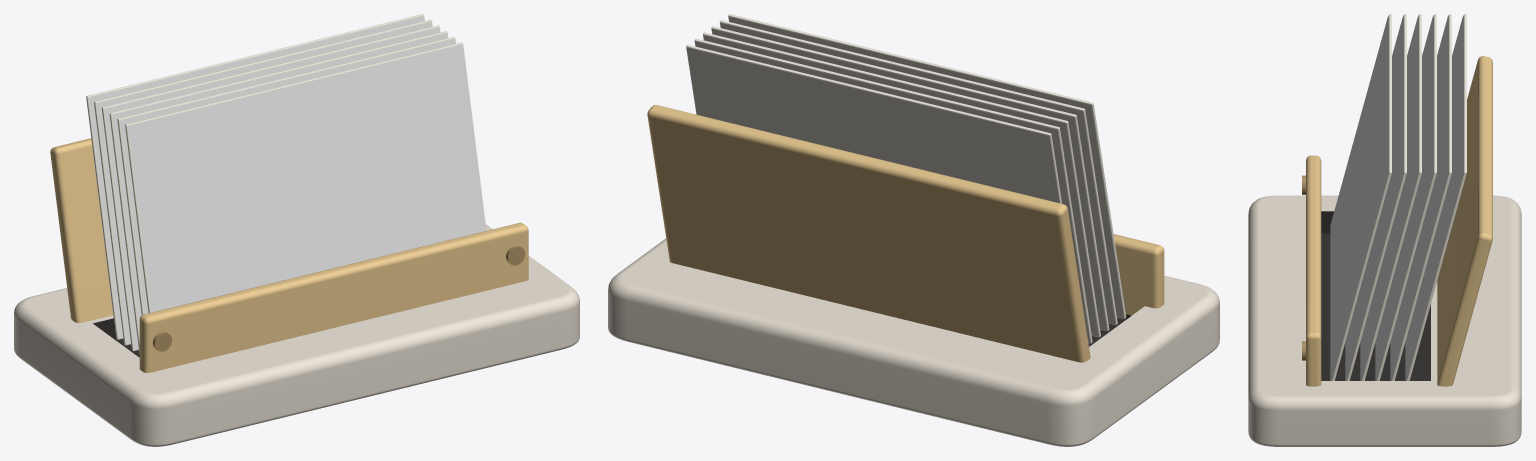
Rendered from cardholder.glb.
The picture shows the model from 3 angles, left to right: view 1: azimuth 30°, elevation 25°; view 2: azimuth 150°, elevation 25°; view 3: azimuth 270°, elevation 25°; orthographic projection. The views are drawn at different scales.
Parts seen in each view (by area): view 1: holder, face5, face2, face3, face4, face1, face0, Cube.006, Cube.005, Cube.004, Cube.003, Cube.002 (+1 smaller); view 2: holder, Cube.005, Cube.001, Cube.002, Cube.003, Cube.006, Cube.004; view 3: holder, face5, face2, face0, face3, face1, face4, Cube.005, Cube.001, Cube.002, Cube.003, Cube.004 (+1 smaller).
Part boxes in pixels (x1=…): holder: x1=14, y1=138, x2=579, y2=446; face5: x1=128, y1=44, x2=485, y2=312; face2: x1=104, y1=27, x2=439, y2=349; face3: x1=96, y1=21, x2=432, y2=344; face4: x1=89, y1=16, x2=424, y2=338; face1: x1=112, y1=33, x2=447, y2=332; face0: x1=120, y1=38, x2=455, y2=314; Cube.006: x1=125, y1=42, x2=486, y2=313; Cube.005: x1=86, y1=14, x2=424, y2=339; Cube.004: x1=94, y1=19, x2=432, y2=345; Cube.003: x1=101, y1=25, x2=440, y2=351; Cube.002: x1=109, y1=31, x2=448, y2=353; holder: x1=608, y1=105, x2=1219, y2=446; Cube.005: x1=686, y1=44, x2=1061, y2=203; Cube.001: x1=719, y1=20, x2=1117, y2=325; Cube.002: x1=711, y1=26, x2=1109, y2=331; Cube.003: x1=703, y1=32, x2=1100, y2=337; Cube.006: x1=728, y1=14, x2=1126, y2=318; Cube.004: x1=694, y1=38, x2=1092, y2=343; holder: x1=1248, y1=56, x2=1521, y2=446; face5: x1=1330, y1=16, x2=1388, y2=380; face2: x1=1375, y1=15, x2=1433, y2=380; face0: x1=1345, y1=15, x2=1403, y2=380; face3: x1=1390, y1=15, x2=1448, y2=380; face1: x1=1360, y1=15, x2=1418, y2=380; face4: x1=1405, y1=15, x2=1463, y2=380; Cube.005: x1=1406, y1=14, x2=1466, y2=380; Cube.001: x1=1346, y1=14, x2=1406, y2=380; Cube.002: x1=1361, y1=14, x2=1421, y2=380; Cube.003: x1=1376, y1=14, x2=1436, y2=380; Cube.004: x1=1391, y1=14, x2=1451, y2=380.
Bounding box in the file's own units: 0.112 × 0.0644 × 0.062.
